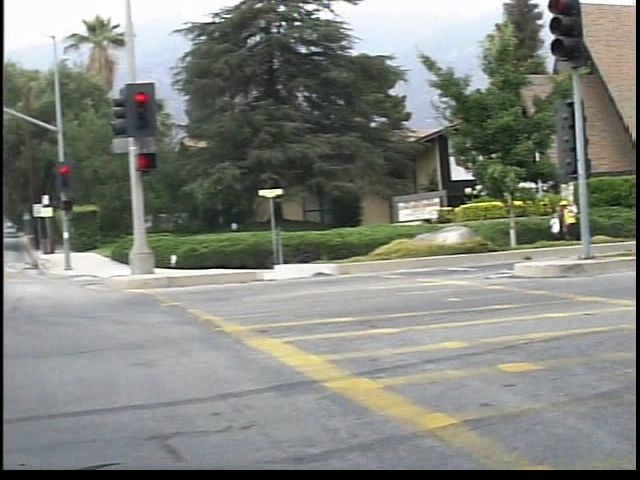person: (567, 190, 591, 245)
